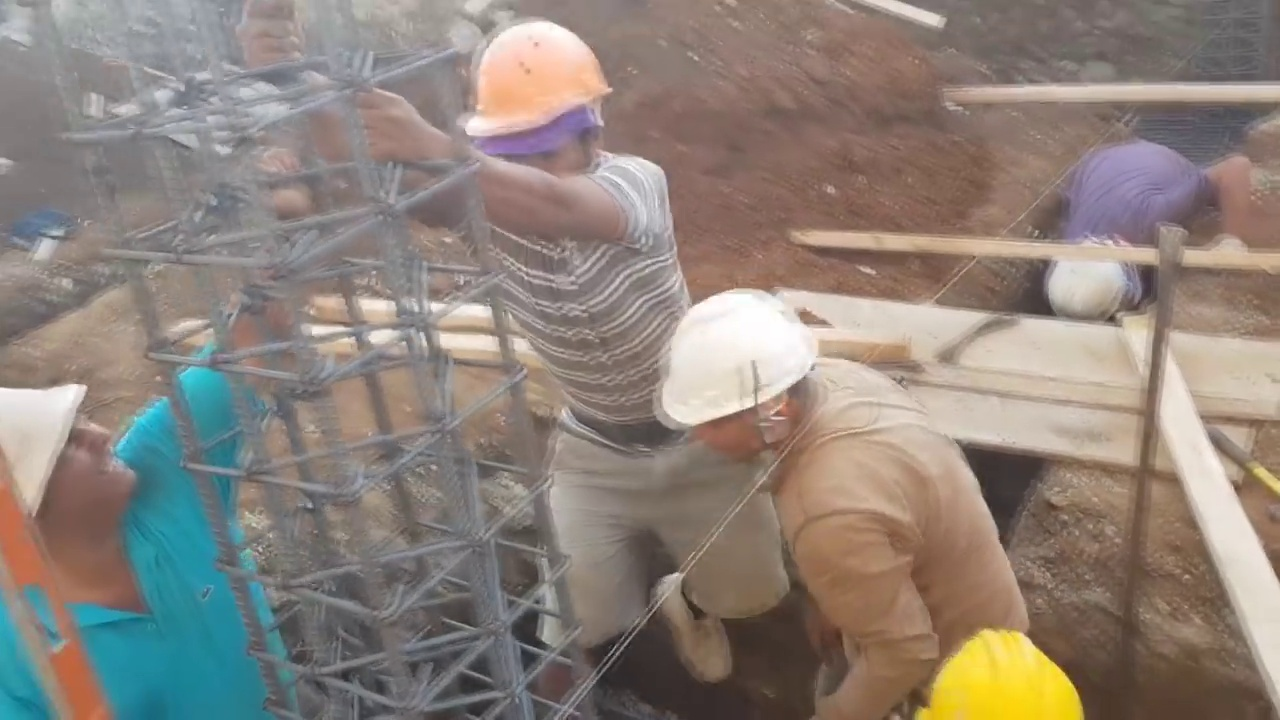helmet: (668, 292, 806, 450), (467, 14, 605, 147), (910, 627, 1082, 718), (1045, 255, 1123, 323)
helmet-off: (2, 368, 146, 618)
helmet-on: (658, 285, 831, 470), (460, 9, 608, 194), (1050, 237, 1158, 322)
person: (238, 0, 790, 683), (3, 146, 310, 714), (660, 293, 1033, 716), (1044, 136, 1249, 326)
